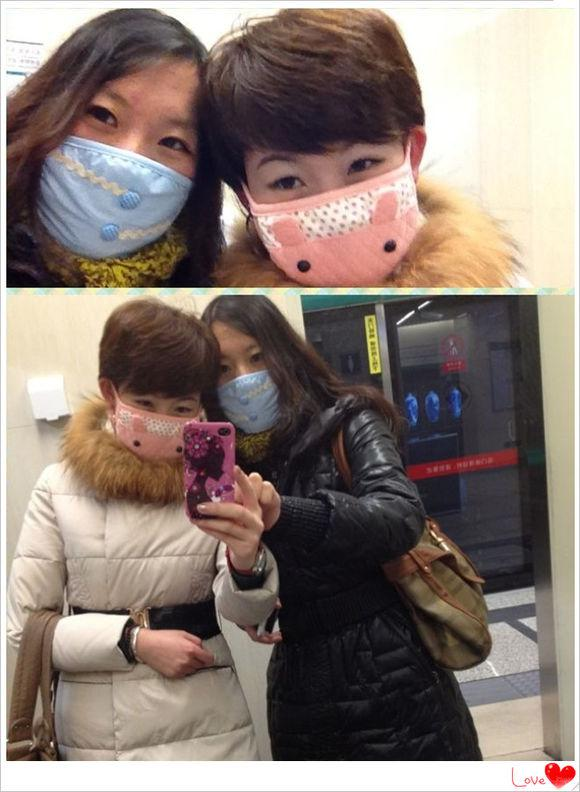OK: (40, 74, 210, 244), (251, 127, 414, 283), (212, 343, 289, 433), (111, 389, 208, 459)
